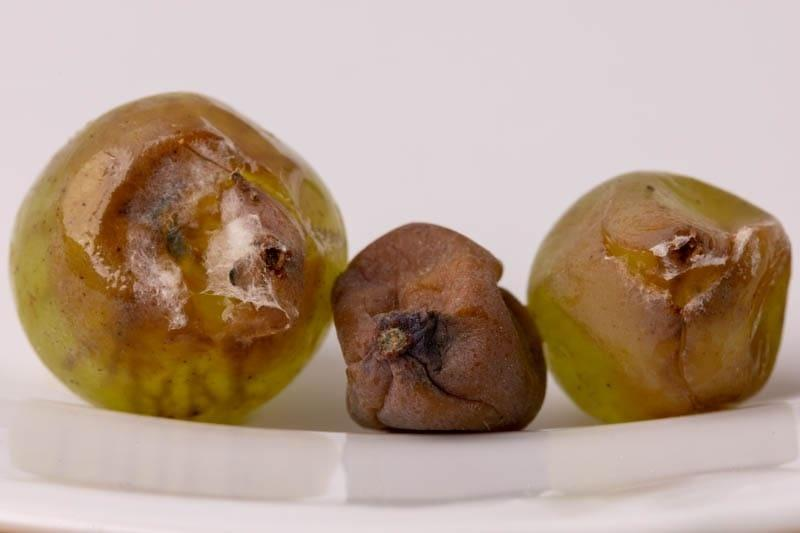Grape Rotten: (7, 90, 349, 424), (526, 169, 792, 424), (330, 220, 547, 434)
